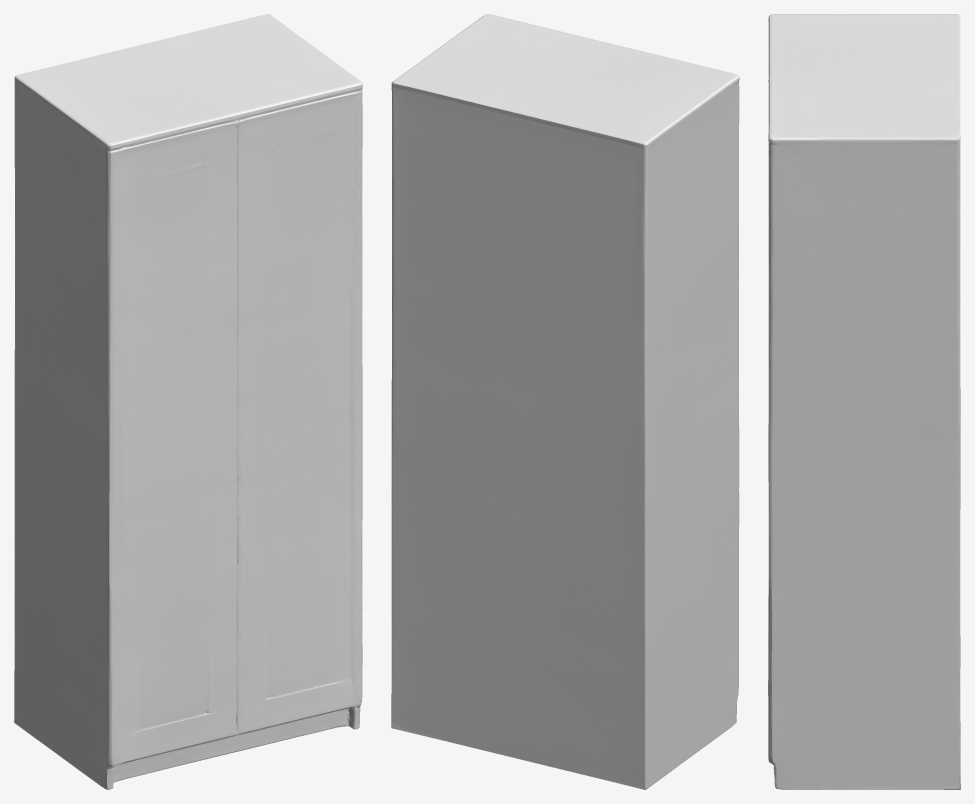
Rendered from wardrobes_19053_image_1.glb.
The picture shows the model from 3 angles, left to right: view 1: azimuth 30°, elevation 25°; view 2: azimuth 150°, elevation 25°; view 3: azimuth 270°, elevation 25°; orthographic projection.
Visible parts, largest first — view 1: world; view 2: world; view 3: world.
Part boxes in pixels (left/top/right/bottom): world: left=14, top=14, right=362, bottom=789; world: left=391, top=14, right=739, bottom=789; world: left=768, top=14, right=960, bottom=789.
Size of the model in its own units: 0.4139 by 1 by 0.2682.
1 material, 1 textured.
